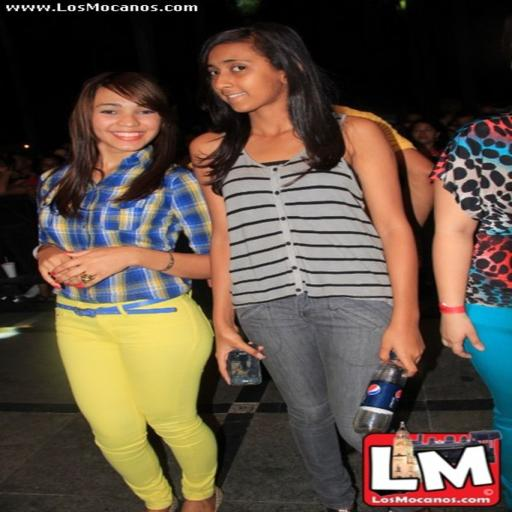Person: (195, 24, 390, 432), (66, 48, 239, 448)
no_gloves: (370, 297, 416, 370), (124, 245, 192, 291), (226, 308, 260, 400), (105, 236, 155, 295), (333, 303, 372, 375)
no_goggle: (143, 97, 192, 129), (220, 55, 276, 82)
no_helmet: (211, 25, 291, 97), (122, 56, 201, 122)
none: (199, 130, 360, 308), (100, 153, 239, 325), (359, 103, 435, 353)
